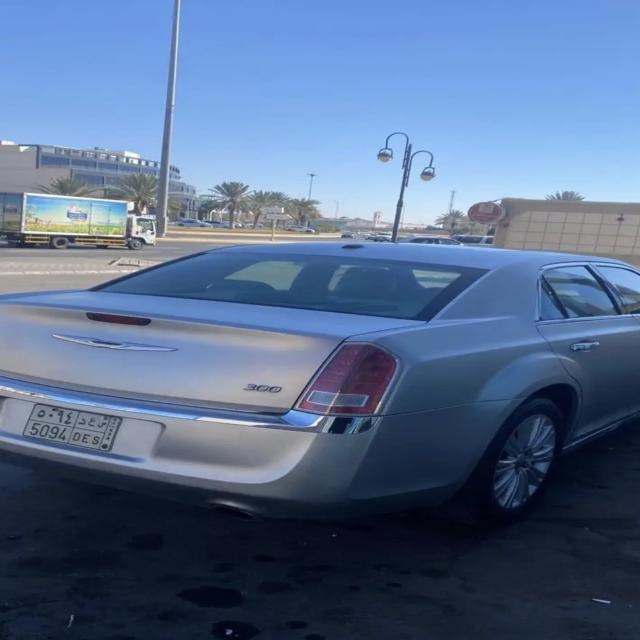license_plate: (17, 400, 120, 450)
